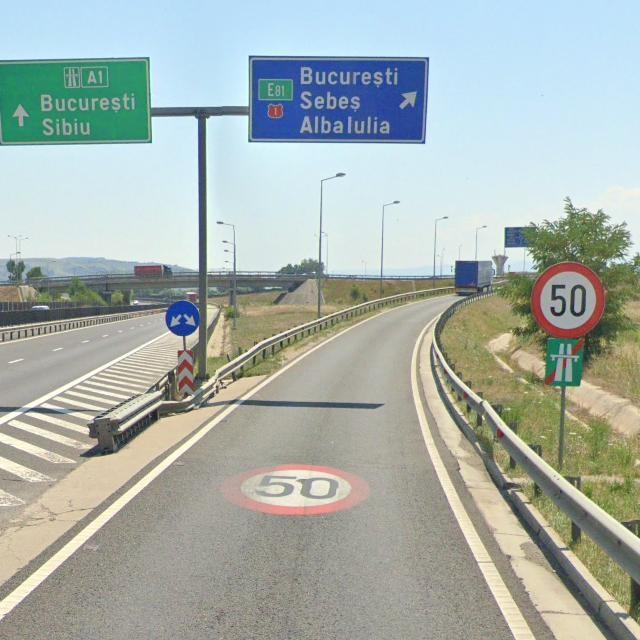forb_speed_over_50: (220, 463, 371, 516), (531, 263, 606, 339)
